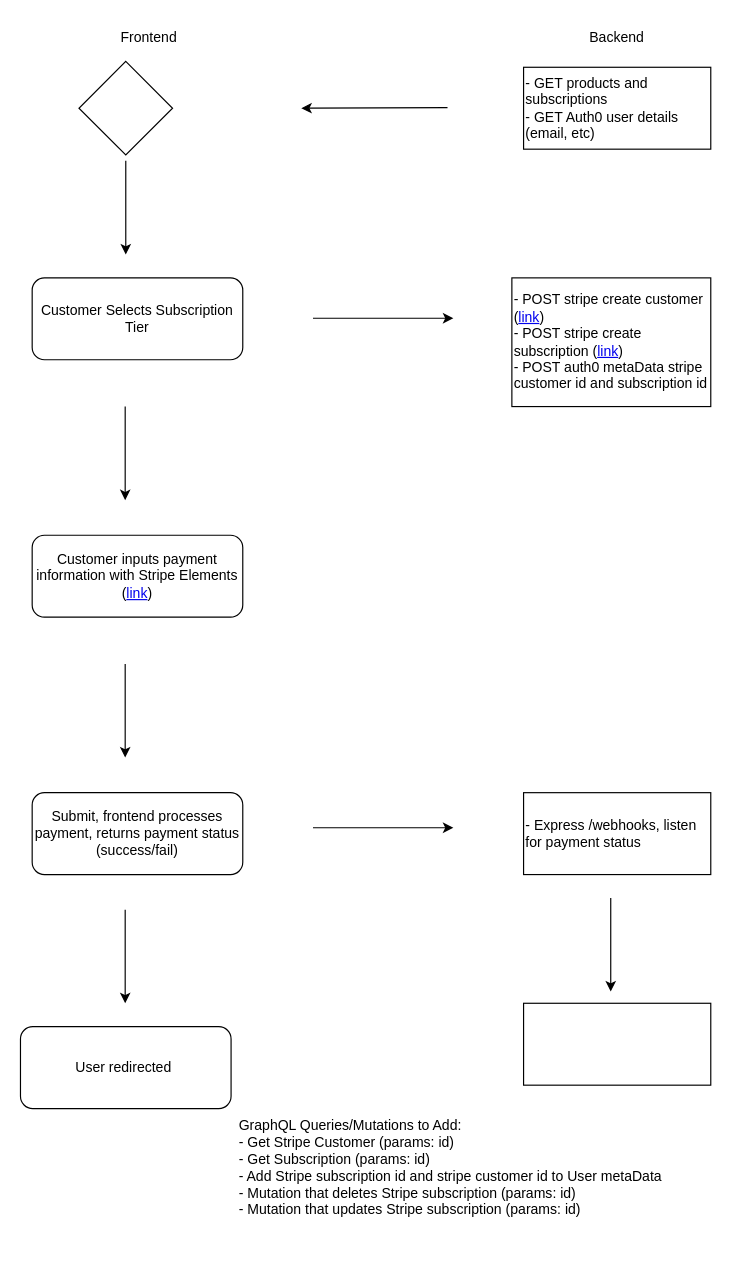
The diagram is 731 pixels wide and 1272 high, and some of its shapes have lost their labels. The box of each missing label's shape, as (x1, y1, x2, y2) in pixels:
- Express set payment method as default: (522, 1002, 711, 1085)
Start: (78, 60, 173, 155)
